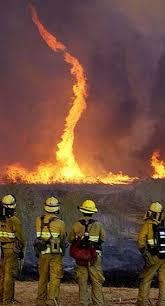fire: (24, 1, 97, 180), (149, 149, 164, 180)
